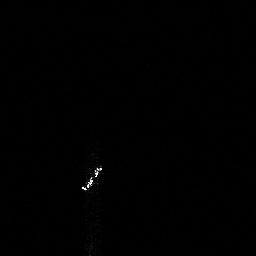ship: (80, 163, 102, 191)
